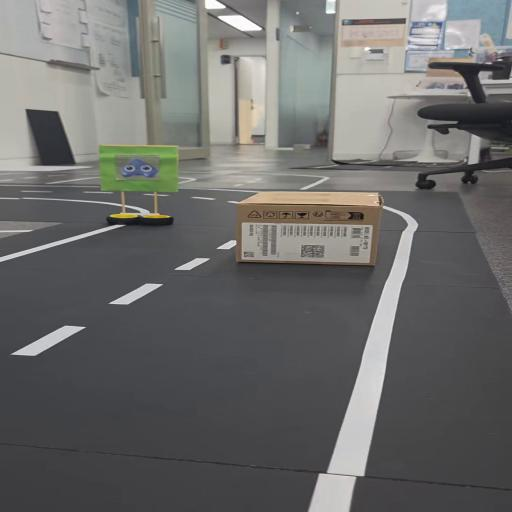Box: (234, 186, 386, 267)
Sign_B: (103, 142, 193, 230)
